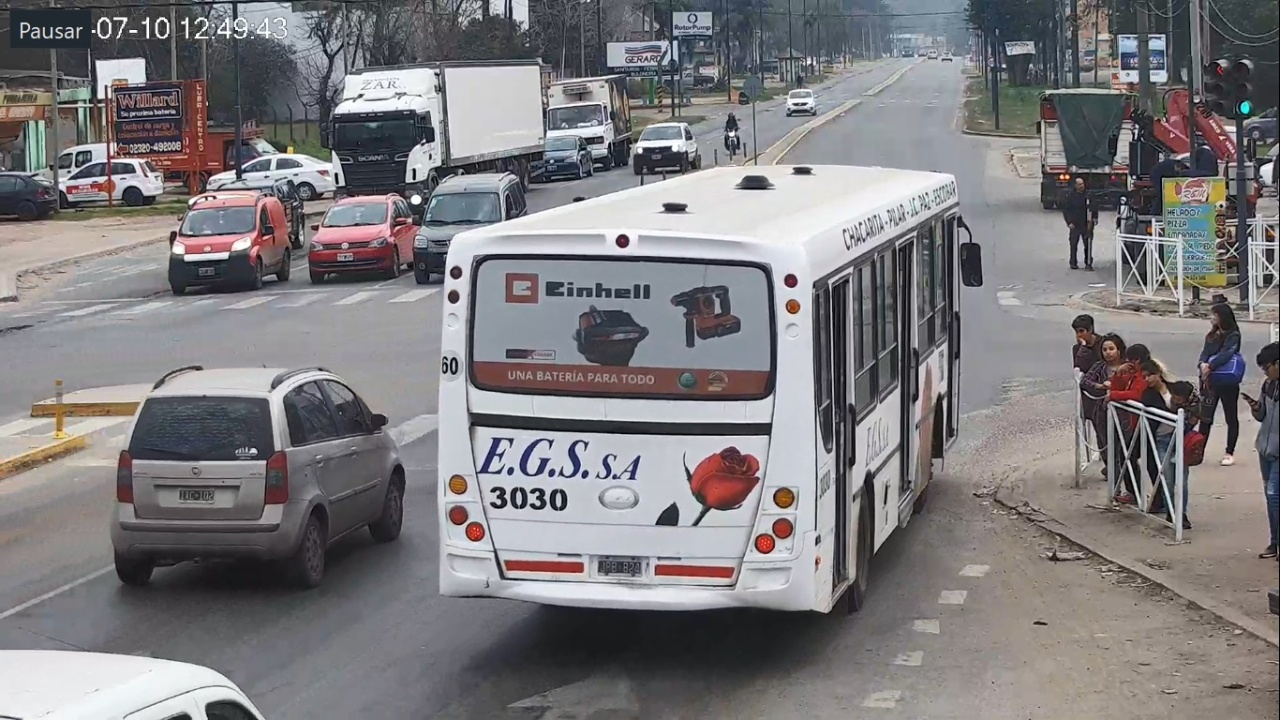bus: (439, 165, 983, 615)
car: (110, 366, 405, 586)
traffic light: (1233, 57, 1255, 117)
